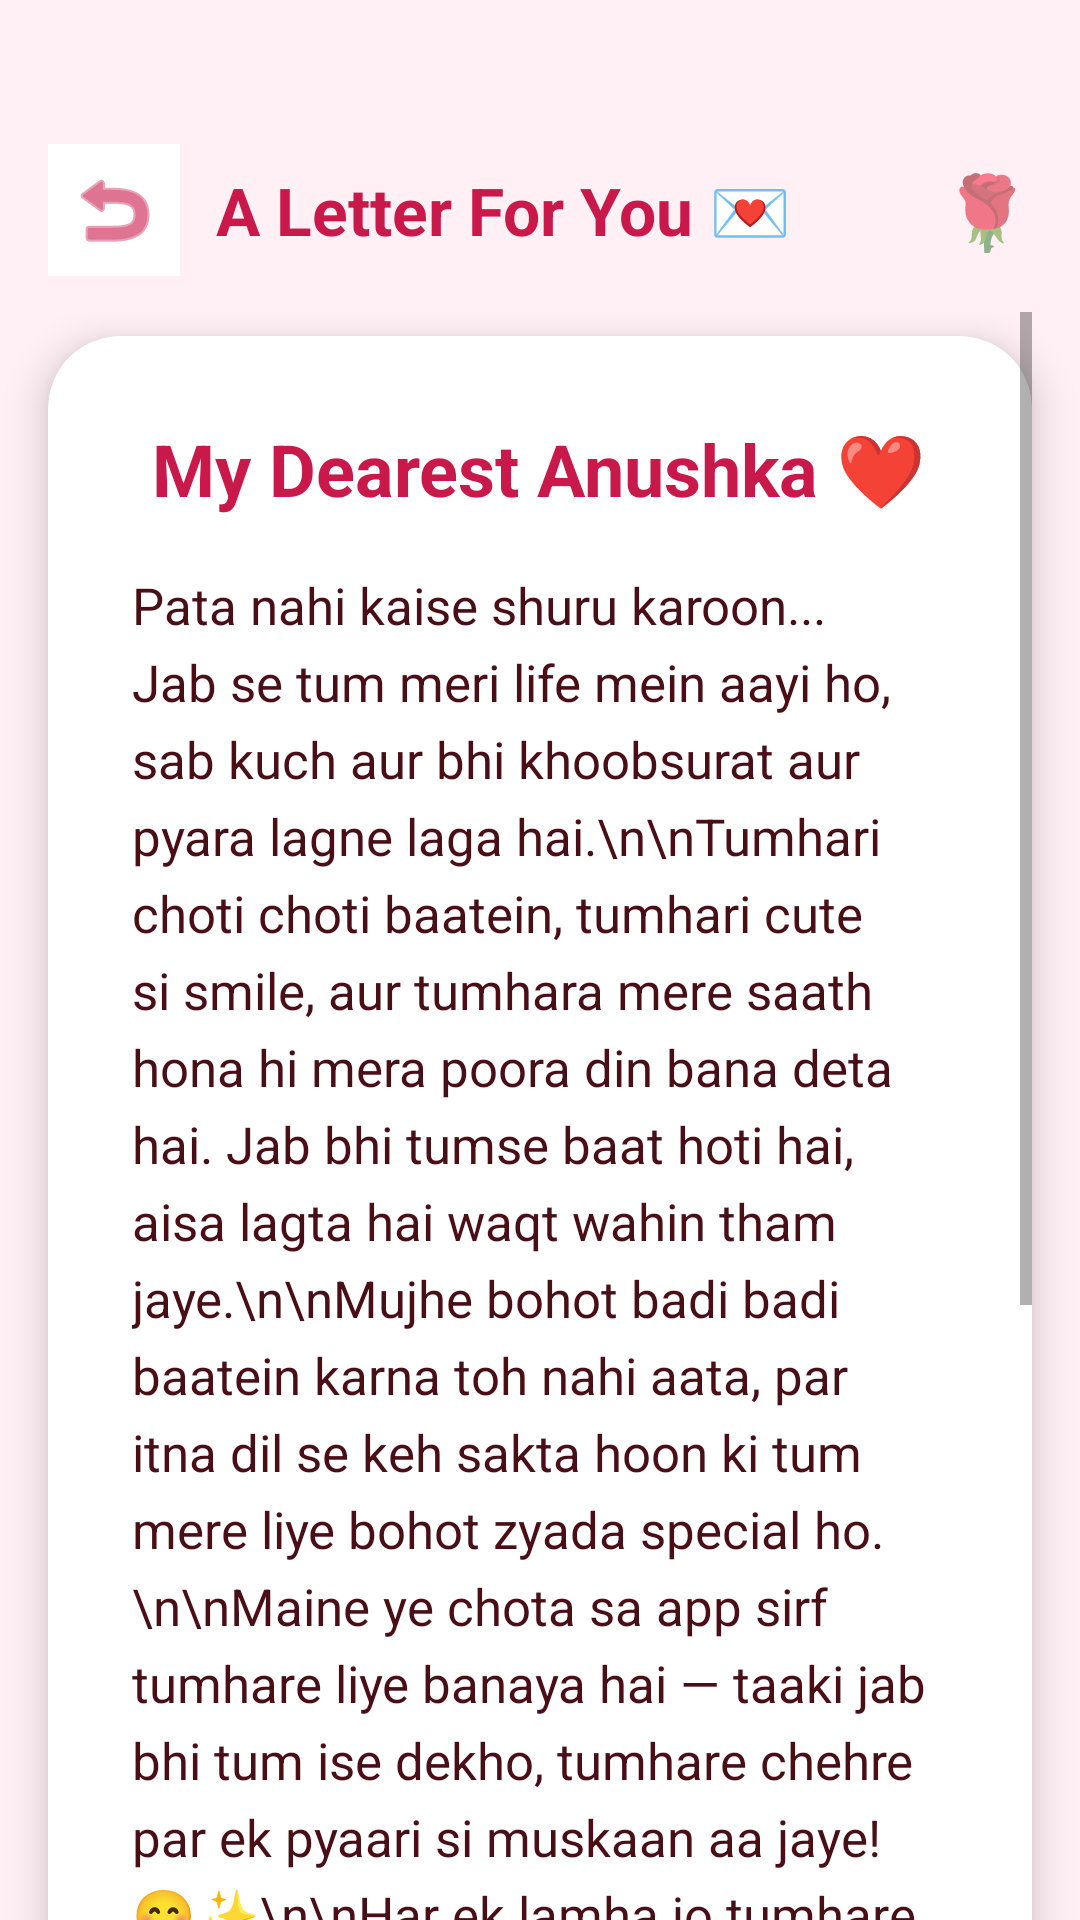

Icon click points for this 1080*1920 phone screenshot, format (x,y):
Back: (115,211)
